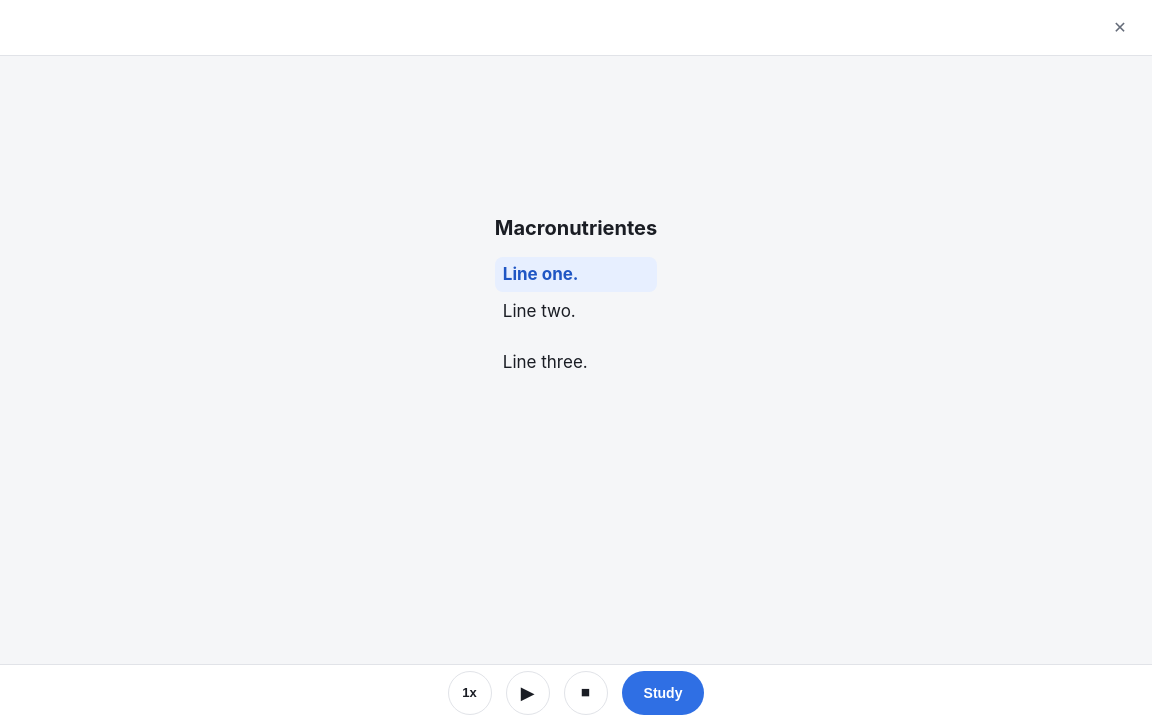
it: LearningTopicPage › Stop resets the highlight to the first line and stops playback
The image size is (1152, 720).
Click the button with class "reader-control-btn" showing "▶".
click(528, 692)  # box [506,670,550,714]
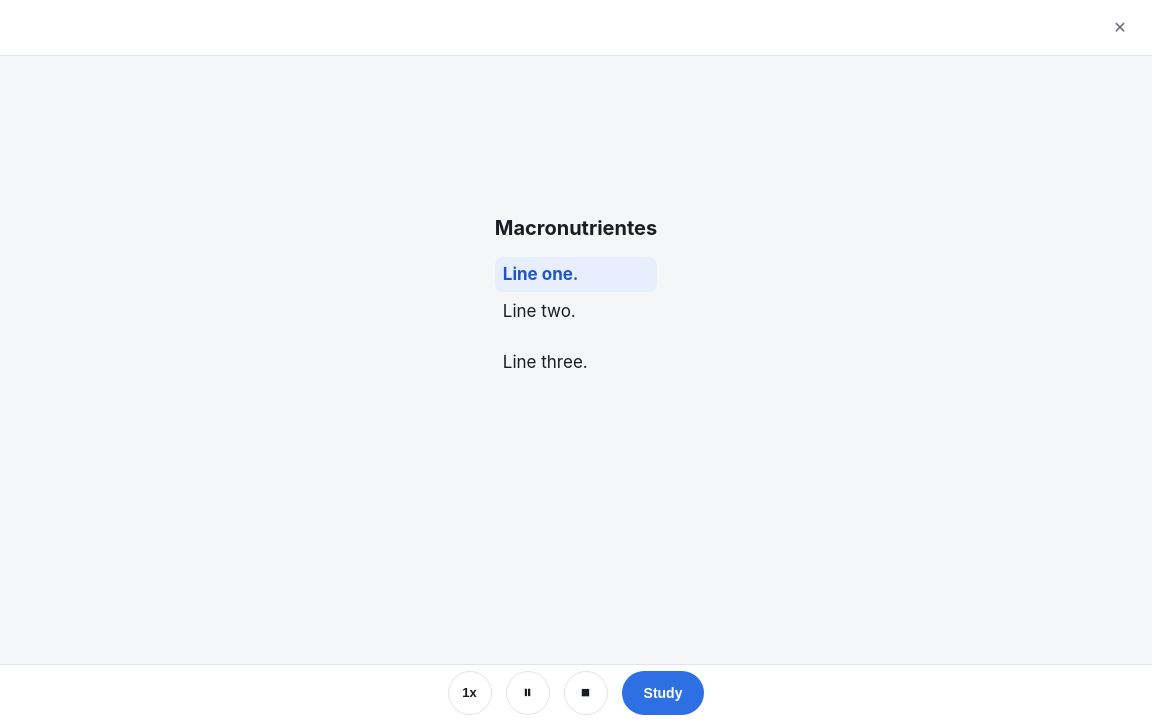
Click the button with class "reader-line" showing "Line two.".
click(576, 312)  # box [495,294,657,329]
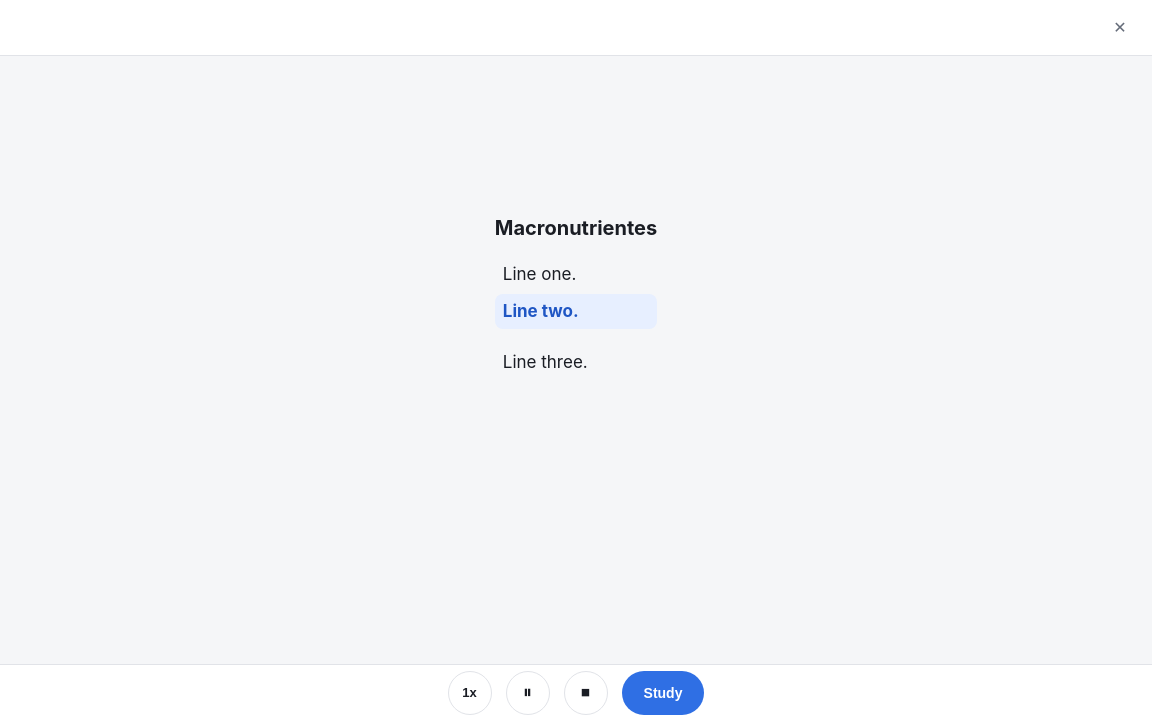
Click the button named "Stop".
click(586, 692)  # box [564,670,608,714]
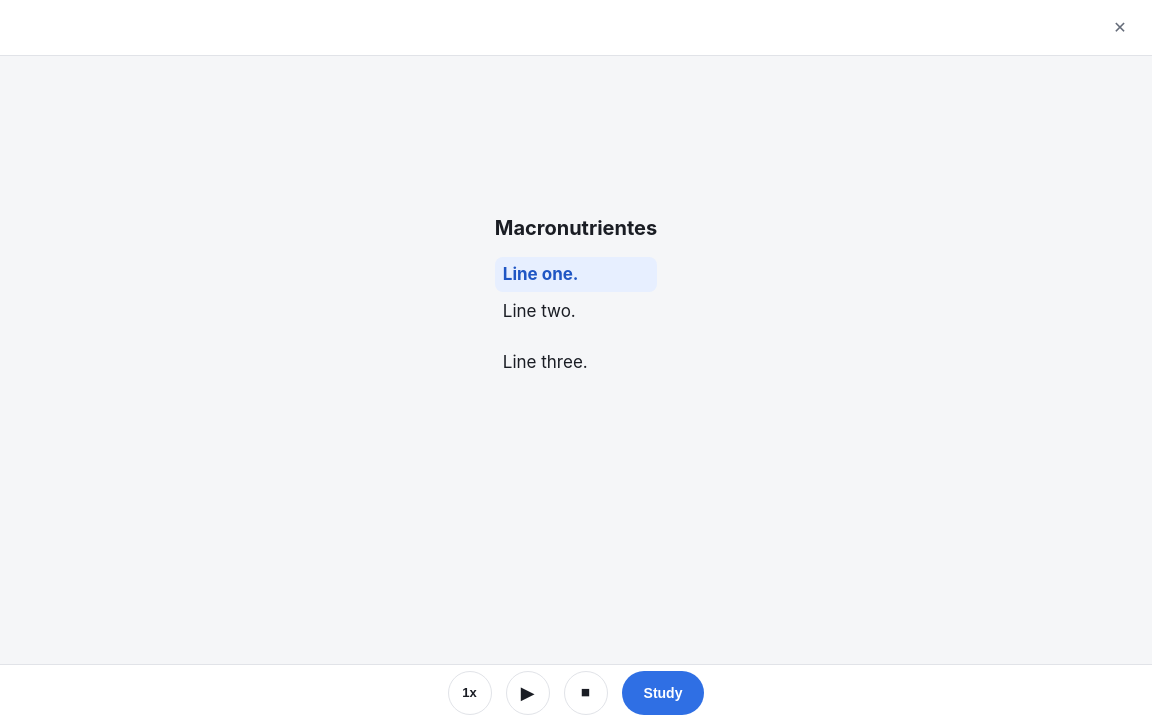
Expected: the button with class "reader-control-btn" reads "▶", [506,670,550,714]
